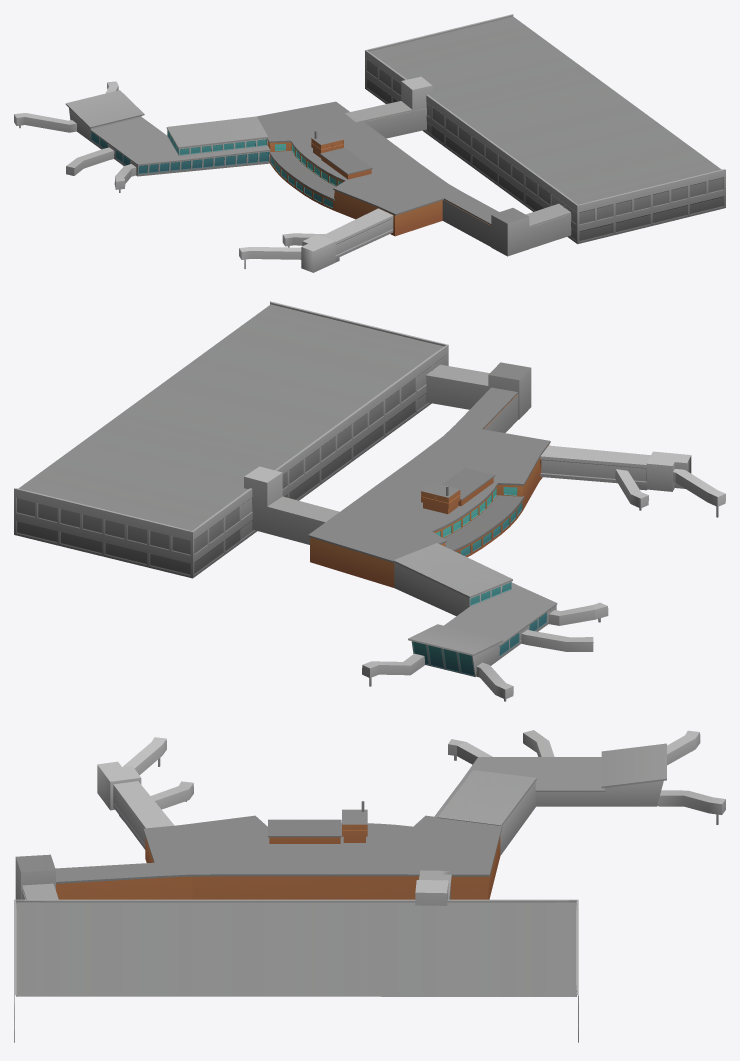
File: Airport_BTV.fbx
3 renders of one model, top to bottom at view 1: azimuth 30°, elevation 25°; view 2: azimuth 150°, elevation 25°; view 3: azimuth 270°, elevation 25°, orthographic. The views are drawn at different scales.
Parts seen in each view (by area): view 1: polySurface11; view 2: polySurface11; view 3: polySurface11.
Boxes of the visible parts, <box> form: polySurface11: <box>14,14,725,272</box>; polySurface11: <box>14,301,725,701</box>; polySurface11: <box>14,730,725,1042</box>.
Bounding box in the file's own units: 5948 × 628 × 5945.
1 material, 1 textured.
